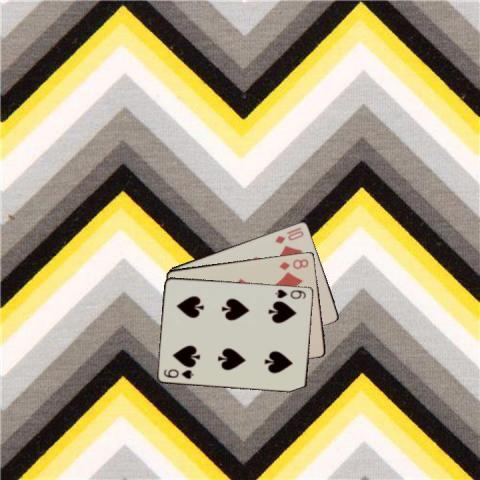10d: (272, 227, 305, 245)
6s: (273, 286, 307, 300), (162, 366, 196, 380)
8d: (276, 255, 310, 272)
